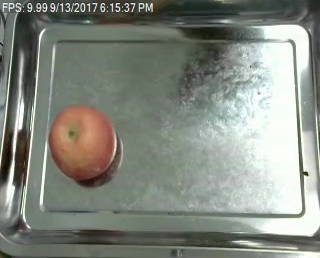Apple: (49, 104, 116, 180)
